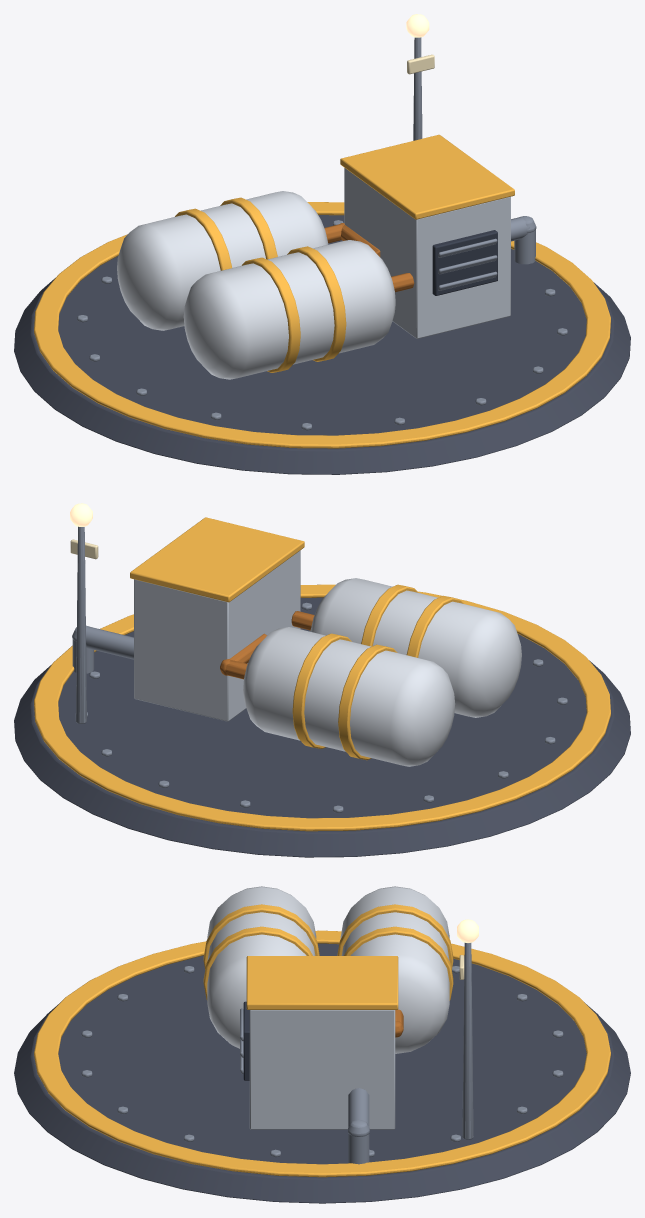
The model's file is aussenlager.fbx.
The picture shows the model from 3 angles, top to bottom: view 1: azimuth 30°, elevation 25°; view 2: azimuth 150°, elevation 25°; view 3: azimuth 270°, elevation 25°; orthographic projection.
Parts seen in each view (by area): view 1: aussenlager_Koerper; view 2: aussenlager_Koerper; view 3: aussenlager_Koerper.
Part boxes in pixels (x1,y1,x2,y2): aussenlager_Koerper: (14, 14, 630, 474); aussenlager_Koerper: (14, 503, 630, 857); aussenlager_Koerper: (14, 886, 630, 1203).
Bounding box in the file's own units: 5.09 × 2.14 × 5.09.
